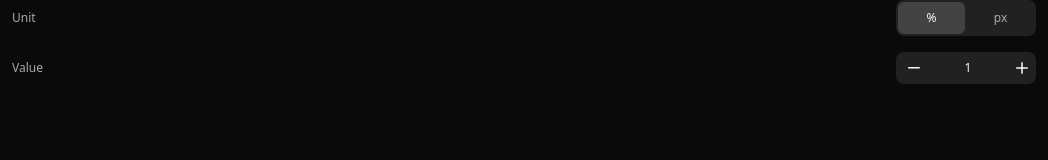
Test case: UnitValueInput Component › When unit is px › convert to 0 when value < 0
The image size is (1048, 160).
Click the text "px": (1001, 18) [994, 9, 1007, 26]
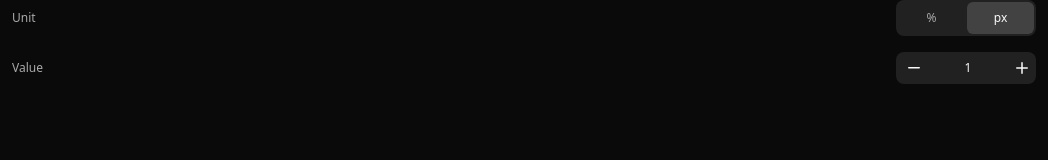
Expected: the text "px" has class "bg-[#424242]", [967, 2, 1034, 34]
Replace the text in the field with "-5": (968, 68) [932, 52, 1004, 84]
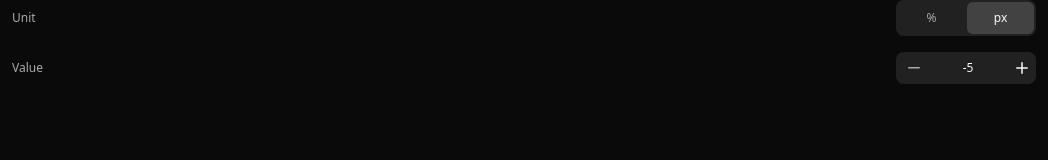
Leave the field, box [932, 52, 1004, 84]
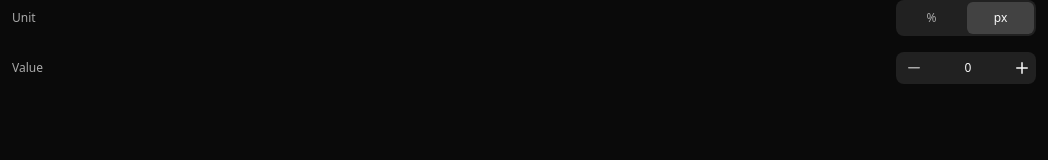
Expected: the field holds "0", [932, 52, 1004, 84]
